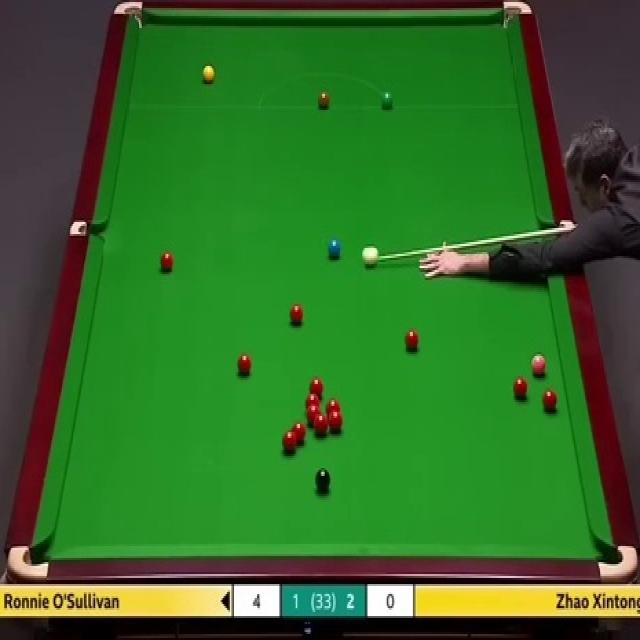pocket: (597, 543, 635, 582), (6, 546, 49, 580), (111, 0, 143, 26), (502, 0, 530, 29), (68, 220, 105, 237)
